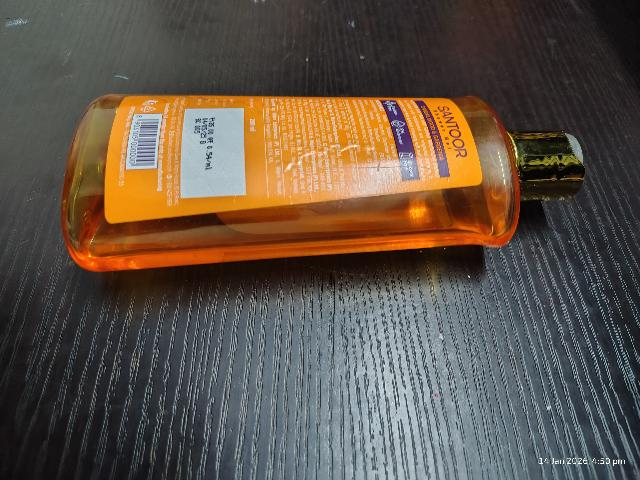santoor bodywash: (64, 89, 584, 271)
